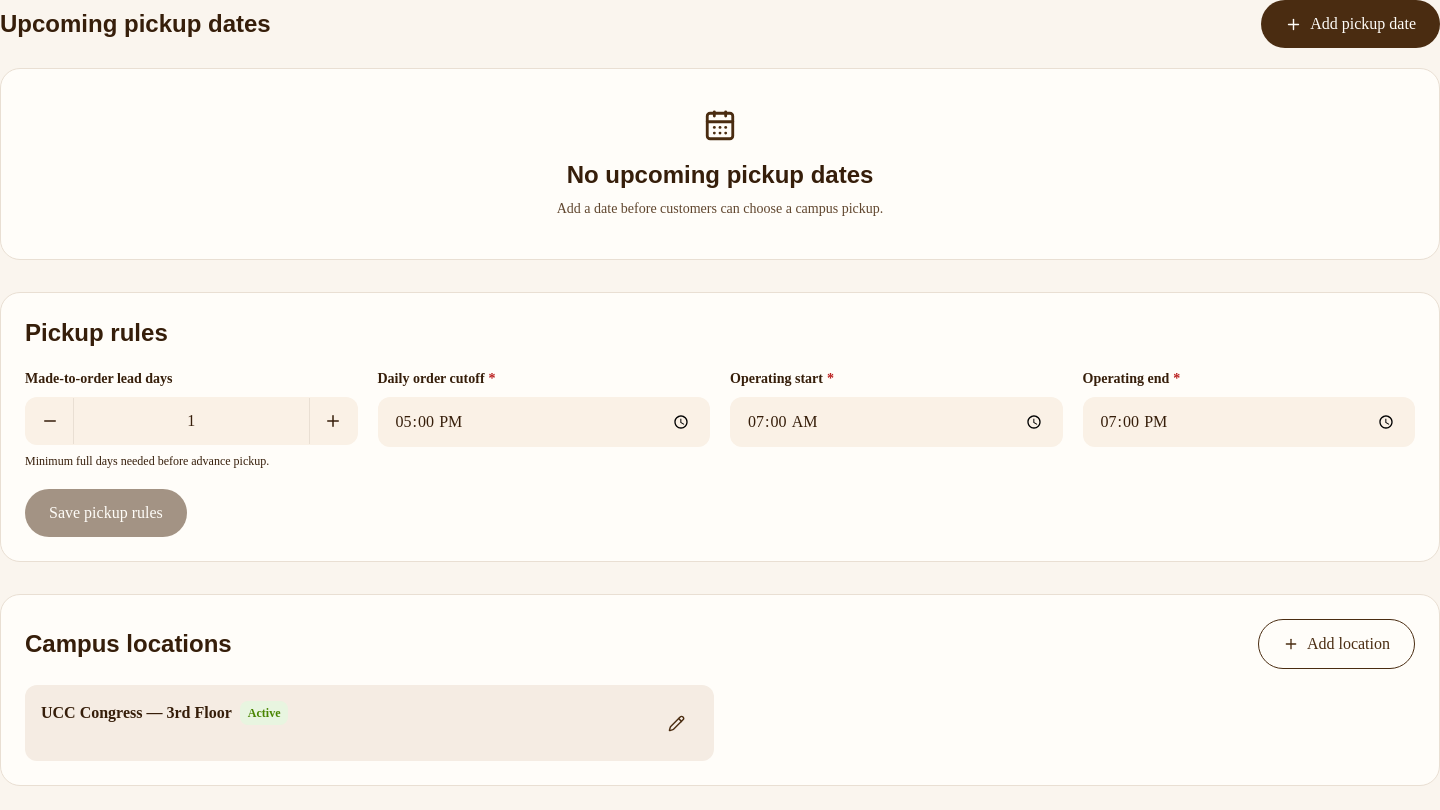
PickupManager › shows the operating hours and explains an out-of-range window before submission
Click the button "Add pickup date". click: point(1351, 24)
box: [1261, 0, 1439, 48]
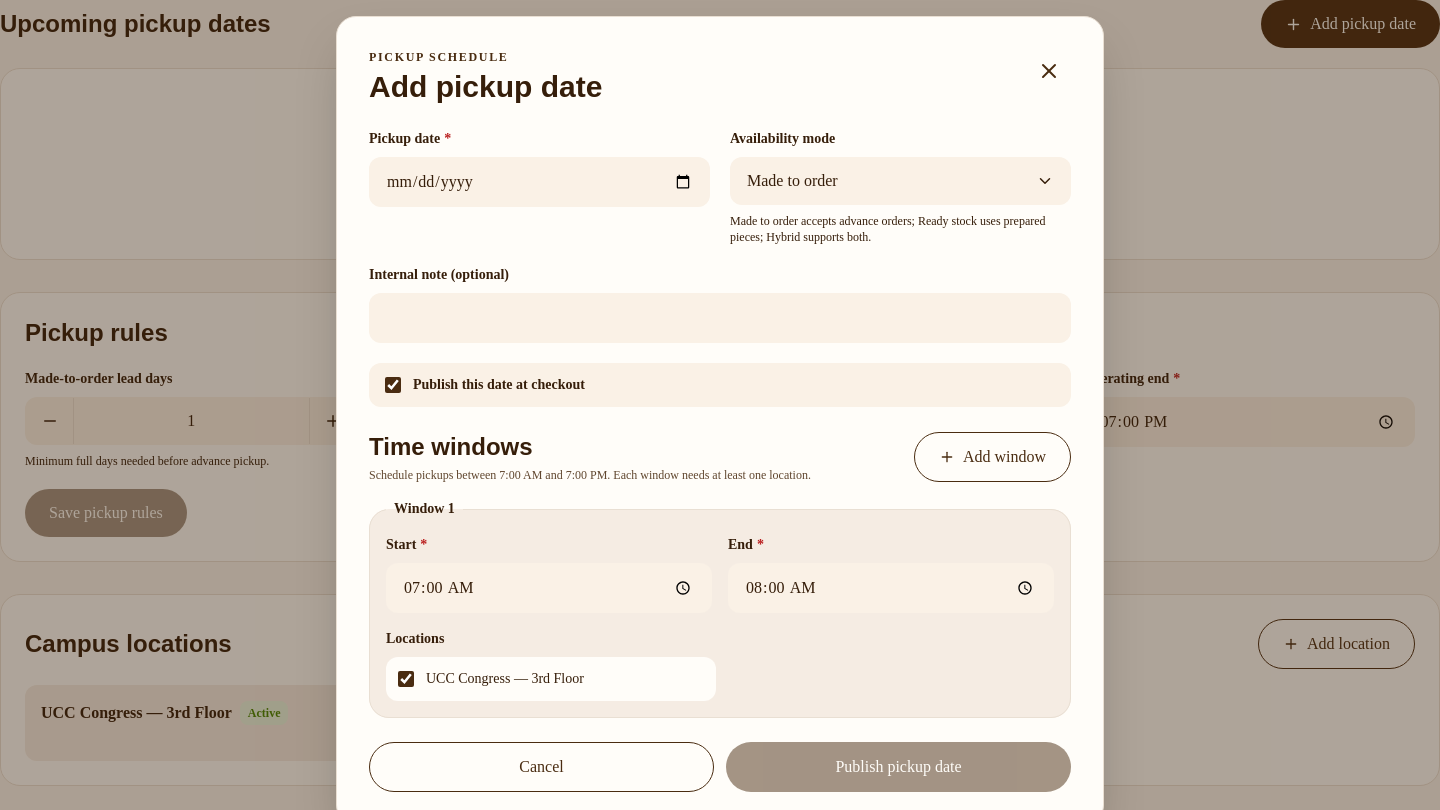
Result: the text "Schedule pickups between 7:00 AM and 7:00 PM" is shown at [369, 467, 811, 483]
Replace the text in the time field showing "08:00" with "20:00". click: point(891, 588)
box: [728, 563, 1054, 613]
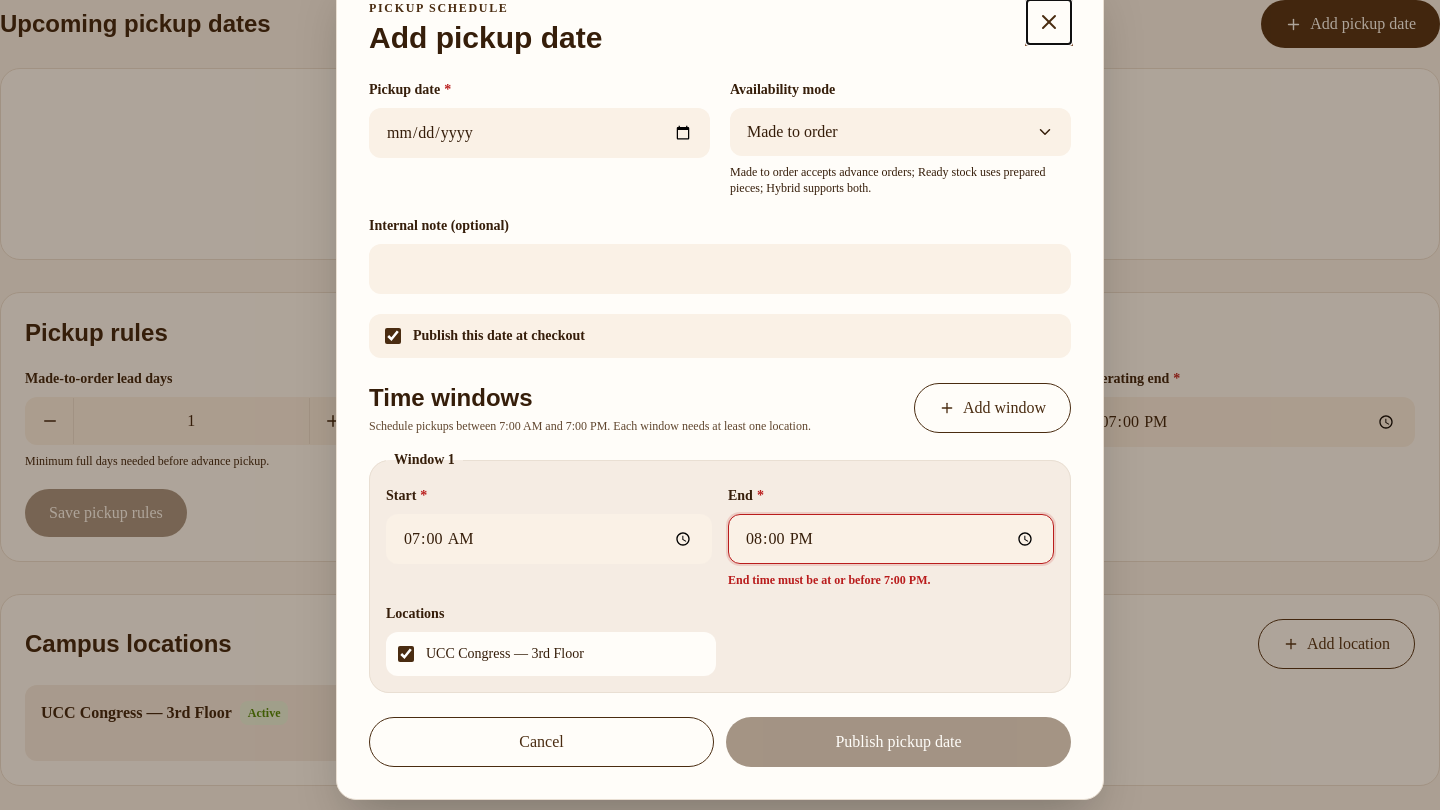
Result: the button "Publish pickup date" is disabled at [726, 717, 1071, 767]
Result: the text "End time must be at or before 7:00 PM." is shown at [728, 573, 930, 587]
